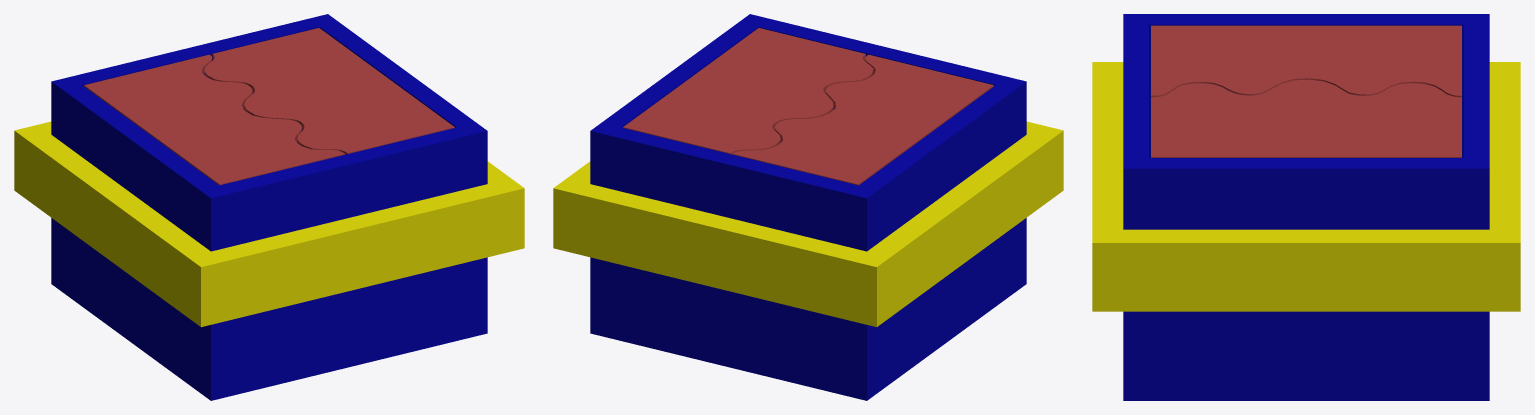
Rendered from BM_Platform_Obstacle03_001.fbx.
3 renders of one model, left to right at view 1: azimuth 30°, elevation 25°; view 2: azimuth 150°, elevation 25°; view 3: azimuth 270°, elevation 25°, orthographic. The views are drawn at different scales.
Visible parts, largest first — view 1: BM_Platform_Obstacle03_001, BM_Platform_Obstacle03_Emissive_001, BM_Platform_Obstacle03_DoorR_001, BM_Platform_Obstacle03_DoorL_001; view 2: BM_Platform_Obstacle03_001, BM_Platform_Obstacle03_Emissive_001, BM_Platform_Obstacle03_DoorR_001, BM_Platform_Obstacle03_DoorL_001; view 3: BM_Platform_Obstacle03_001, BM_Platform_Obstacle03_Emissive_001, BM_Platform_Obstacle03_DoorR_001, BM_Platform_Obstacle03_DoorL_001.
Part boxes in pixels (box(x1,y1,x2,y2)): BM_Platform_Obstacle03_001: box(51, 14, 487, 400); BM_Platform_Obstacle03_Emissive_001: box(14, 121, 524, 327); BM_Platform_Obstacle03_DoorR_001: box(204, 28, 454, 154); BM_Platform_Obstacle03_DoorL_001: box(84, 54, 345, 185); BM_Platform_Obstacle03_001: box(590, 14, 1026, 400); BM_Platform_Obstacle03_Emissive_001: box(553, 121, 1063, 327); BM_Platform_Obstacle03_DoorR_001: box(623, 28, 873, 154); BM_Platform_Obstacle03_DoorL_001: box(732, 54, 993, 185); BM_Platform_Obstacle03_001: box(1123, 14, 1489, 400); BM_Platform_Obstacle03_Emissive_001: box(1092, 62, 1520, 311); BM_Platform_Obstacle03_DoorR_001: box(1151, 79, 1461, 157); BM_Platform_Obstacle03_DoorL_001: box(1151, 25, 1461, 97).
Size of the model in its own units: 234 by 140 by 234.
